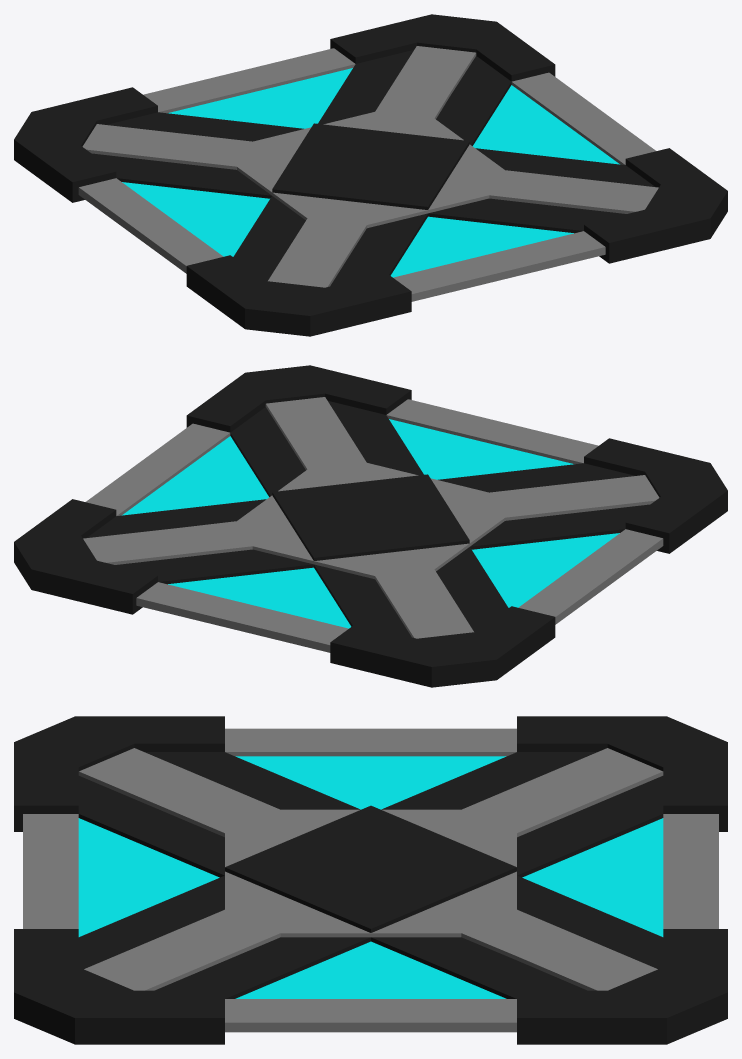
File: Platform.fbx
The picture shows the model from 3 angles, top to bottom: view 1: azimuth 30°, elevation 25°; view 2: azimuth 150°, elevation 25°; view 3: azimuth 270°, elevation 25°; orthographic projection. The views are drawn at different scales.
Parts seen in each view (by area): view 1: Box001; view 2: Box001; view 3: Box001.
Part boxes in pixels (box(x1,y1,x2,y2)): Box001: box(14, 14, 727, 336); Box001: box(14, 365, 727, 687); Box001: box(14, 716, 727, 1044).
Size of the model in its own units: 3.9 by 0.1593 by 3.9.
